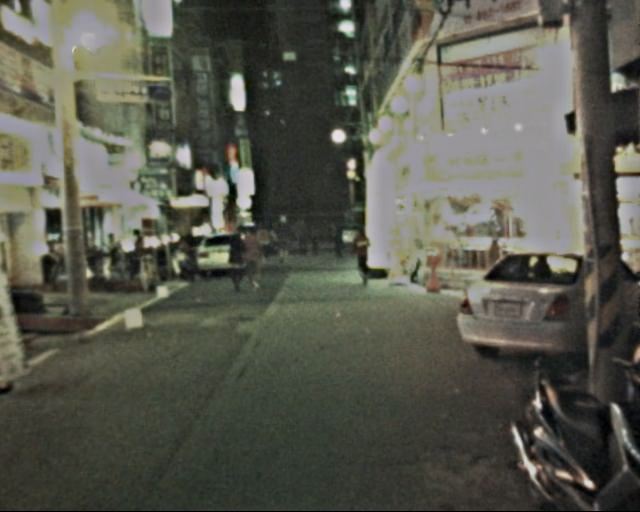person: (237, 224, 271, 293), (221, 225, 251, 292), (347, 224, 376, 287), (296, 220, 342, 256), (269, 213, 294, 267)
